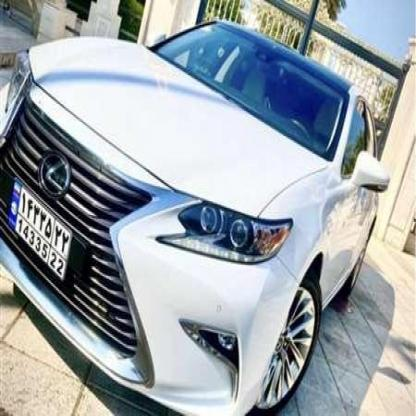Car: (0, 19, 382, 416)
